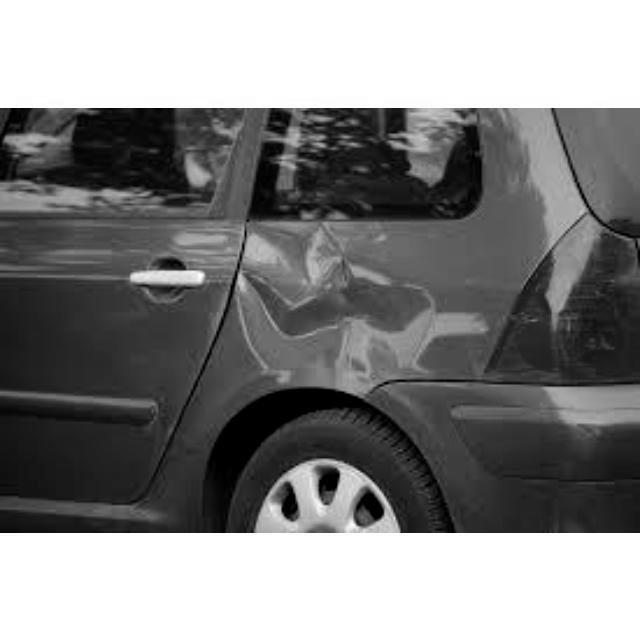quaterpanel-dent: (233, 212, 547, 454)
